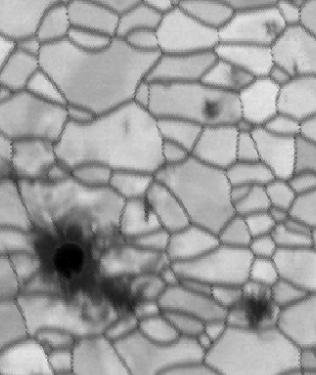good_void: (18, 211, 146, 325), (231, 280, 283, 341), (188, 92, 229, 129), (135, 188, 160, 226), (115, 113, 147, 141), (256, 18, 286, 45), (285, 54, 311, 81), (221, 65, 244, 88)
